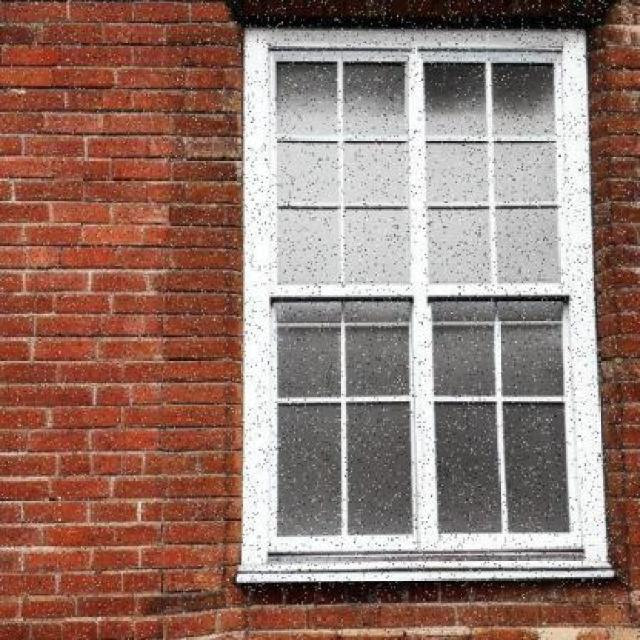window: (242, 28, 590, 570)
